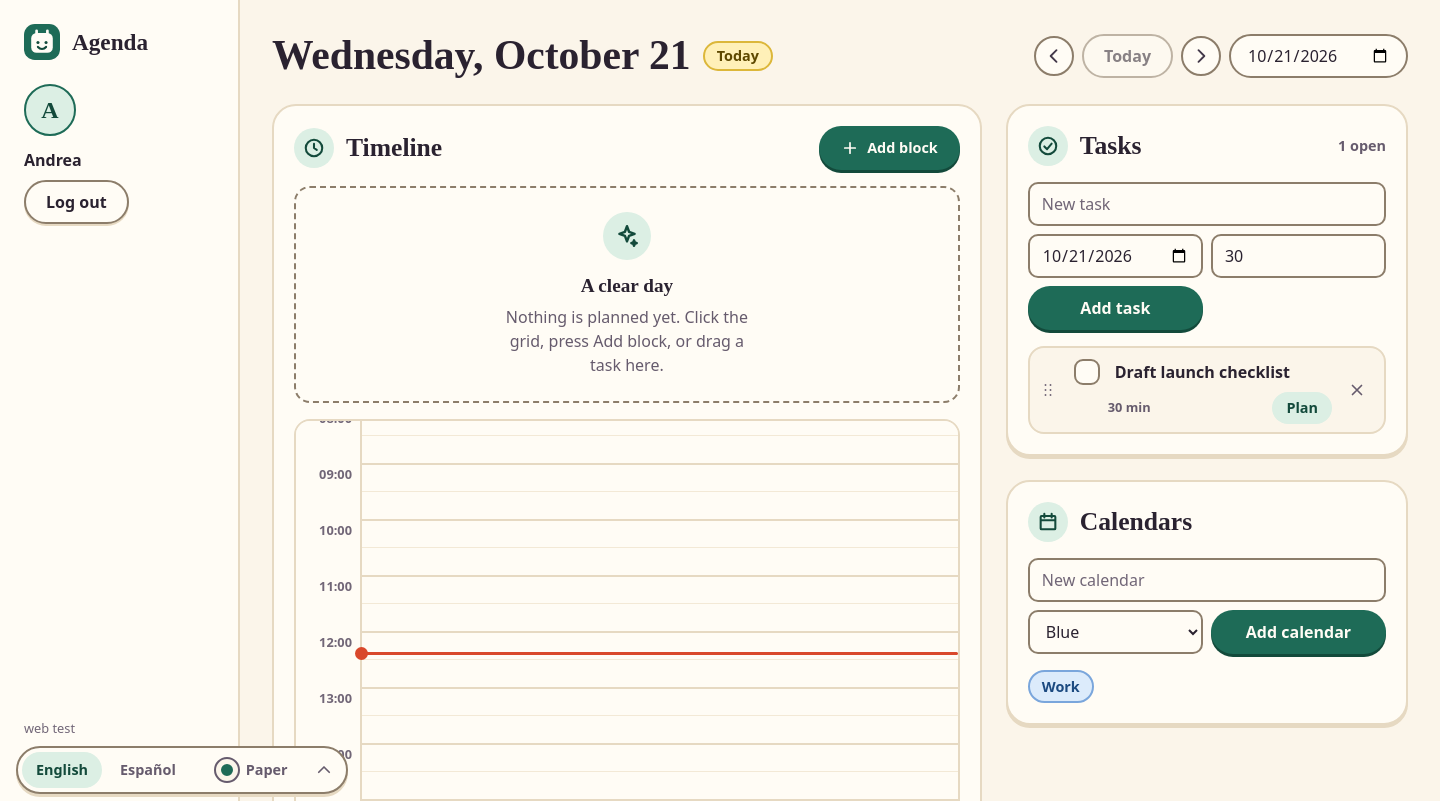
Test: finishing a task › takes the burst back with the change when the server refuses it
The image size is (1440, 801).
(page scrolled)
Click the checkbox labelled "Draft launch checklist" at (1087, 372), box x1=1074 y1=359 x2=1100 y2=385
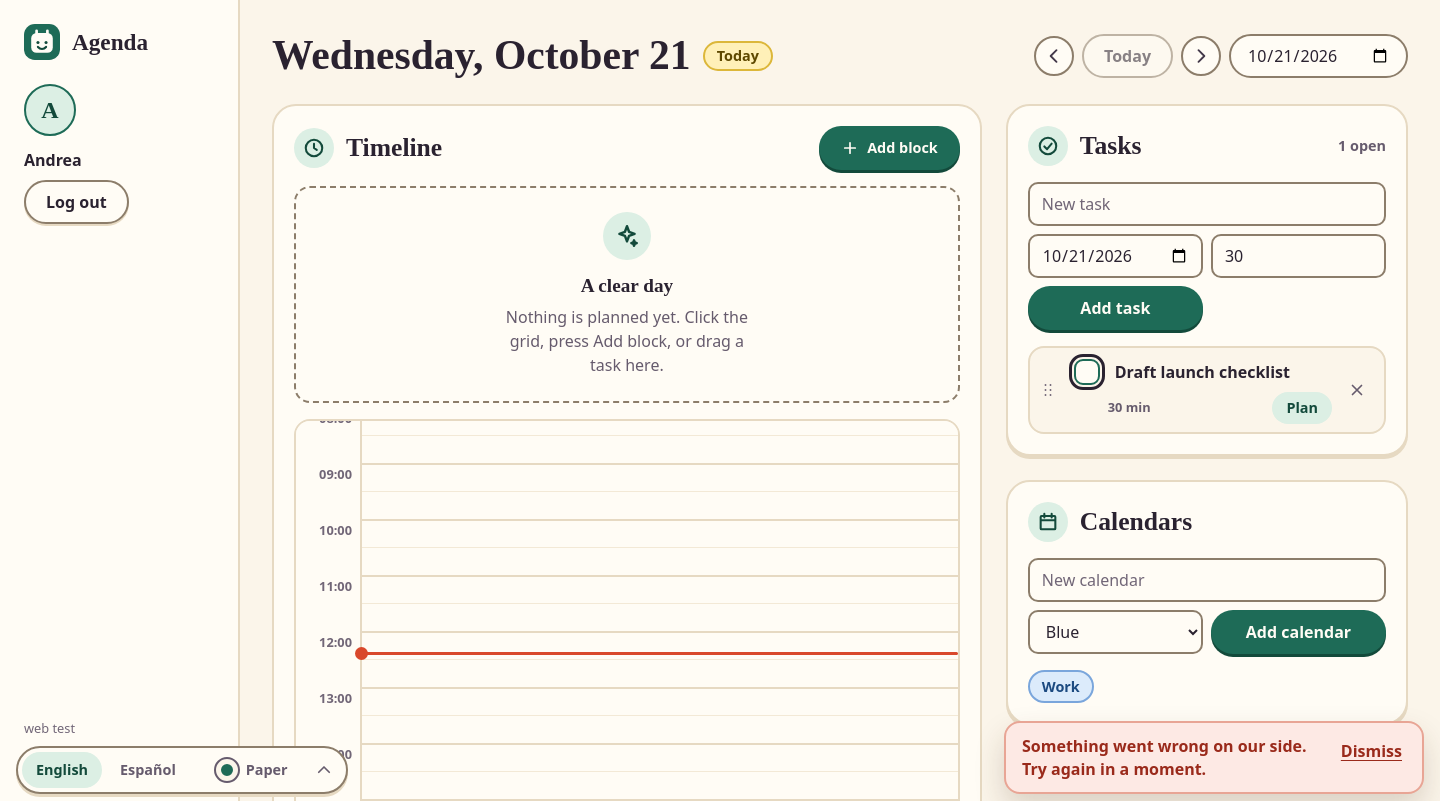
Expected: the message shows "Something went wrong", x1=1022 y1=735 x2=1306 y2=780
